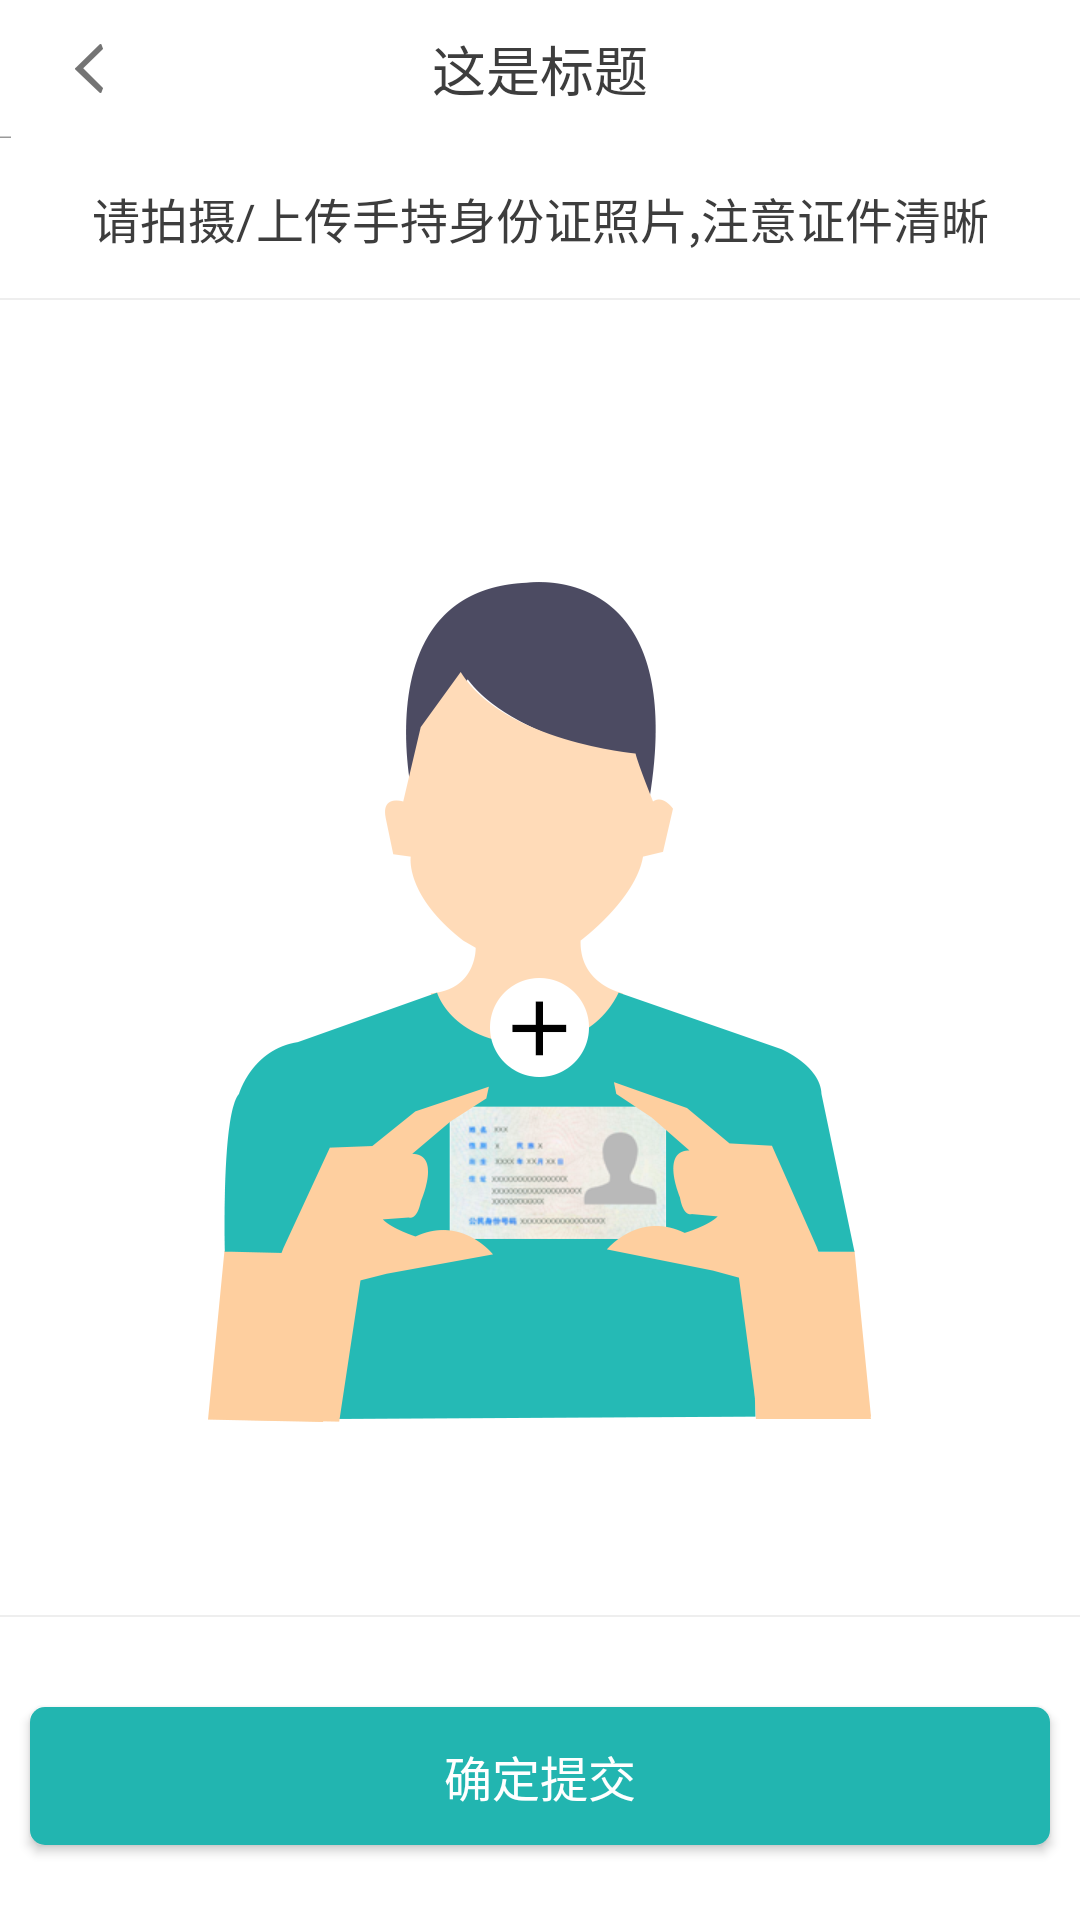

Screen size 1080px x 1920px. Icon name, then its box in pixels as region(x1, y1, x2, y2):
arrows back: region(75, 44, 103, 93)
